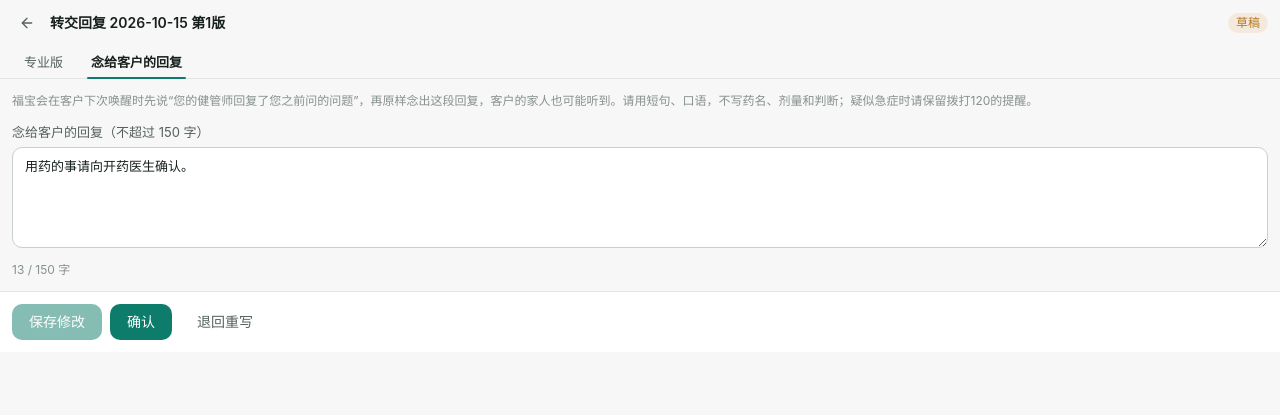
Scenario: /转交回复 › 草稿：默认打开回复编辑框，显示字数；清空后不能保存；没有发送按钮
Check: the text "13 / 150 字" is shown, box [12,262,70,277]
Clear the text box labelled "念给客户的回复（不超过 150 字）" at point(640, 198), box [12,147,1268,248]
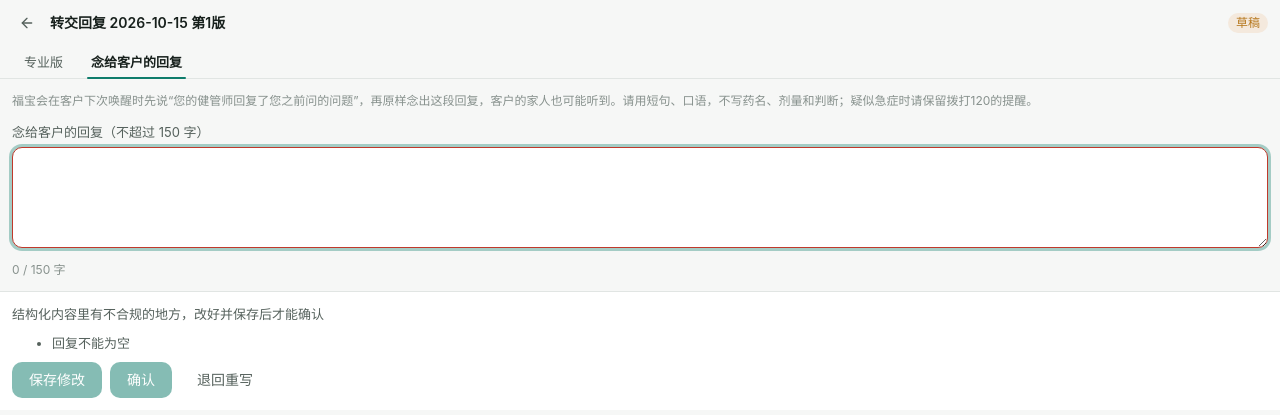
Check: the list item "回复不能为空" is shown, box [52,335,130,351]
